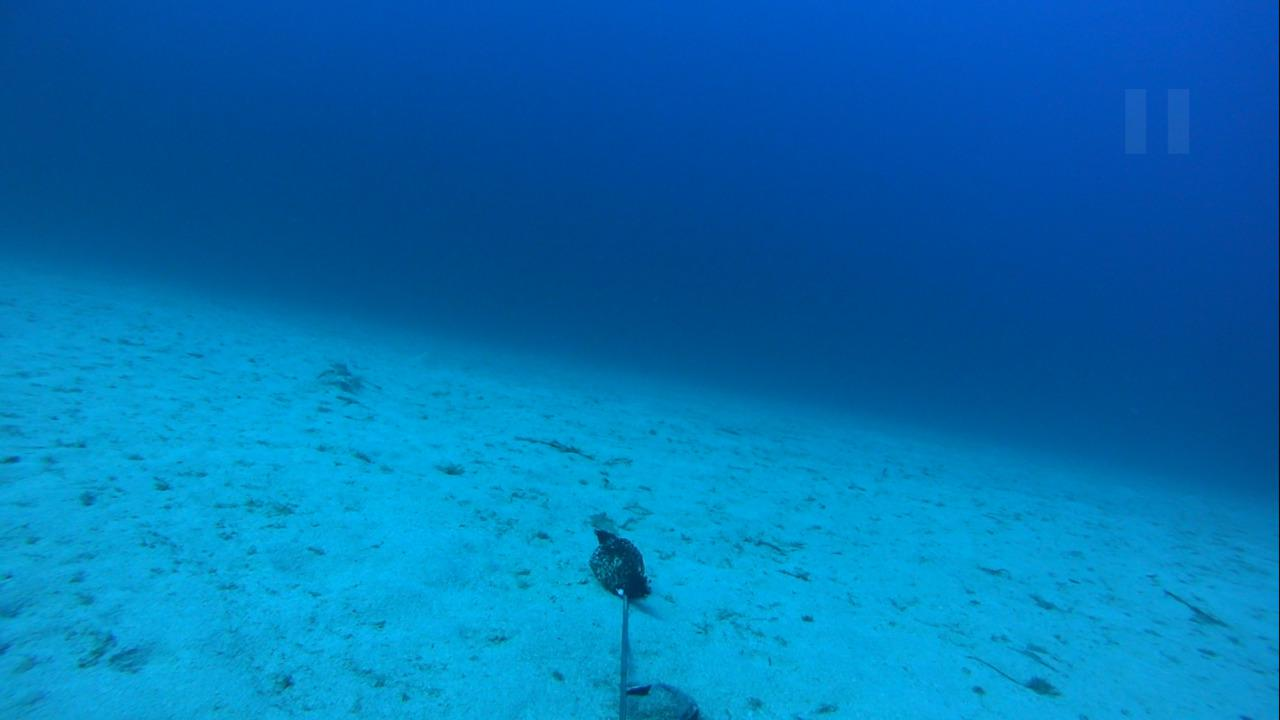dactylopterus: (314, 355, 365, 399)
